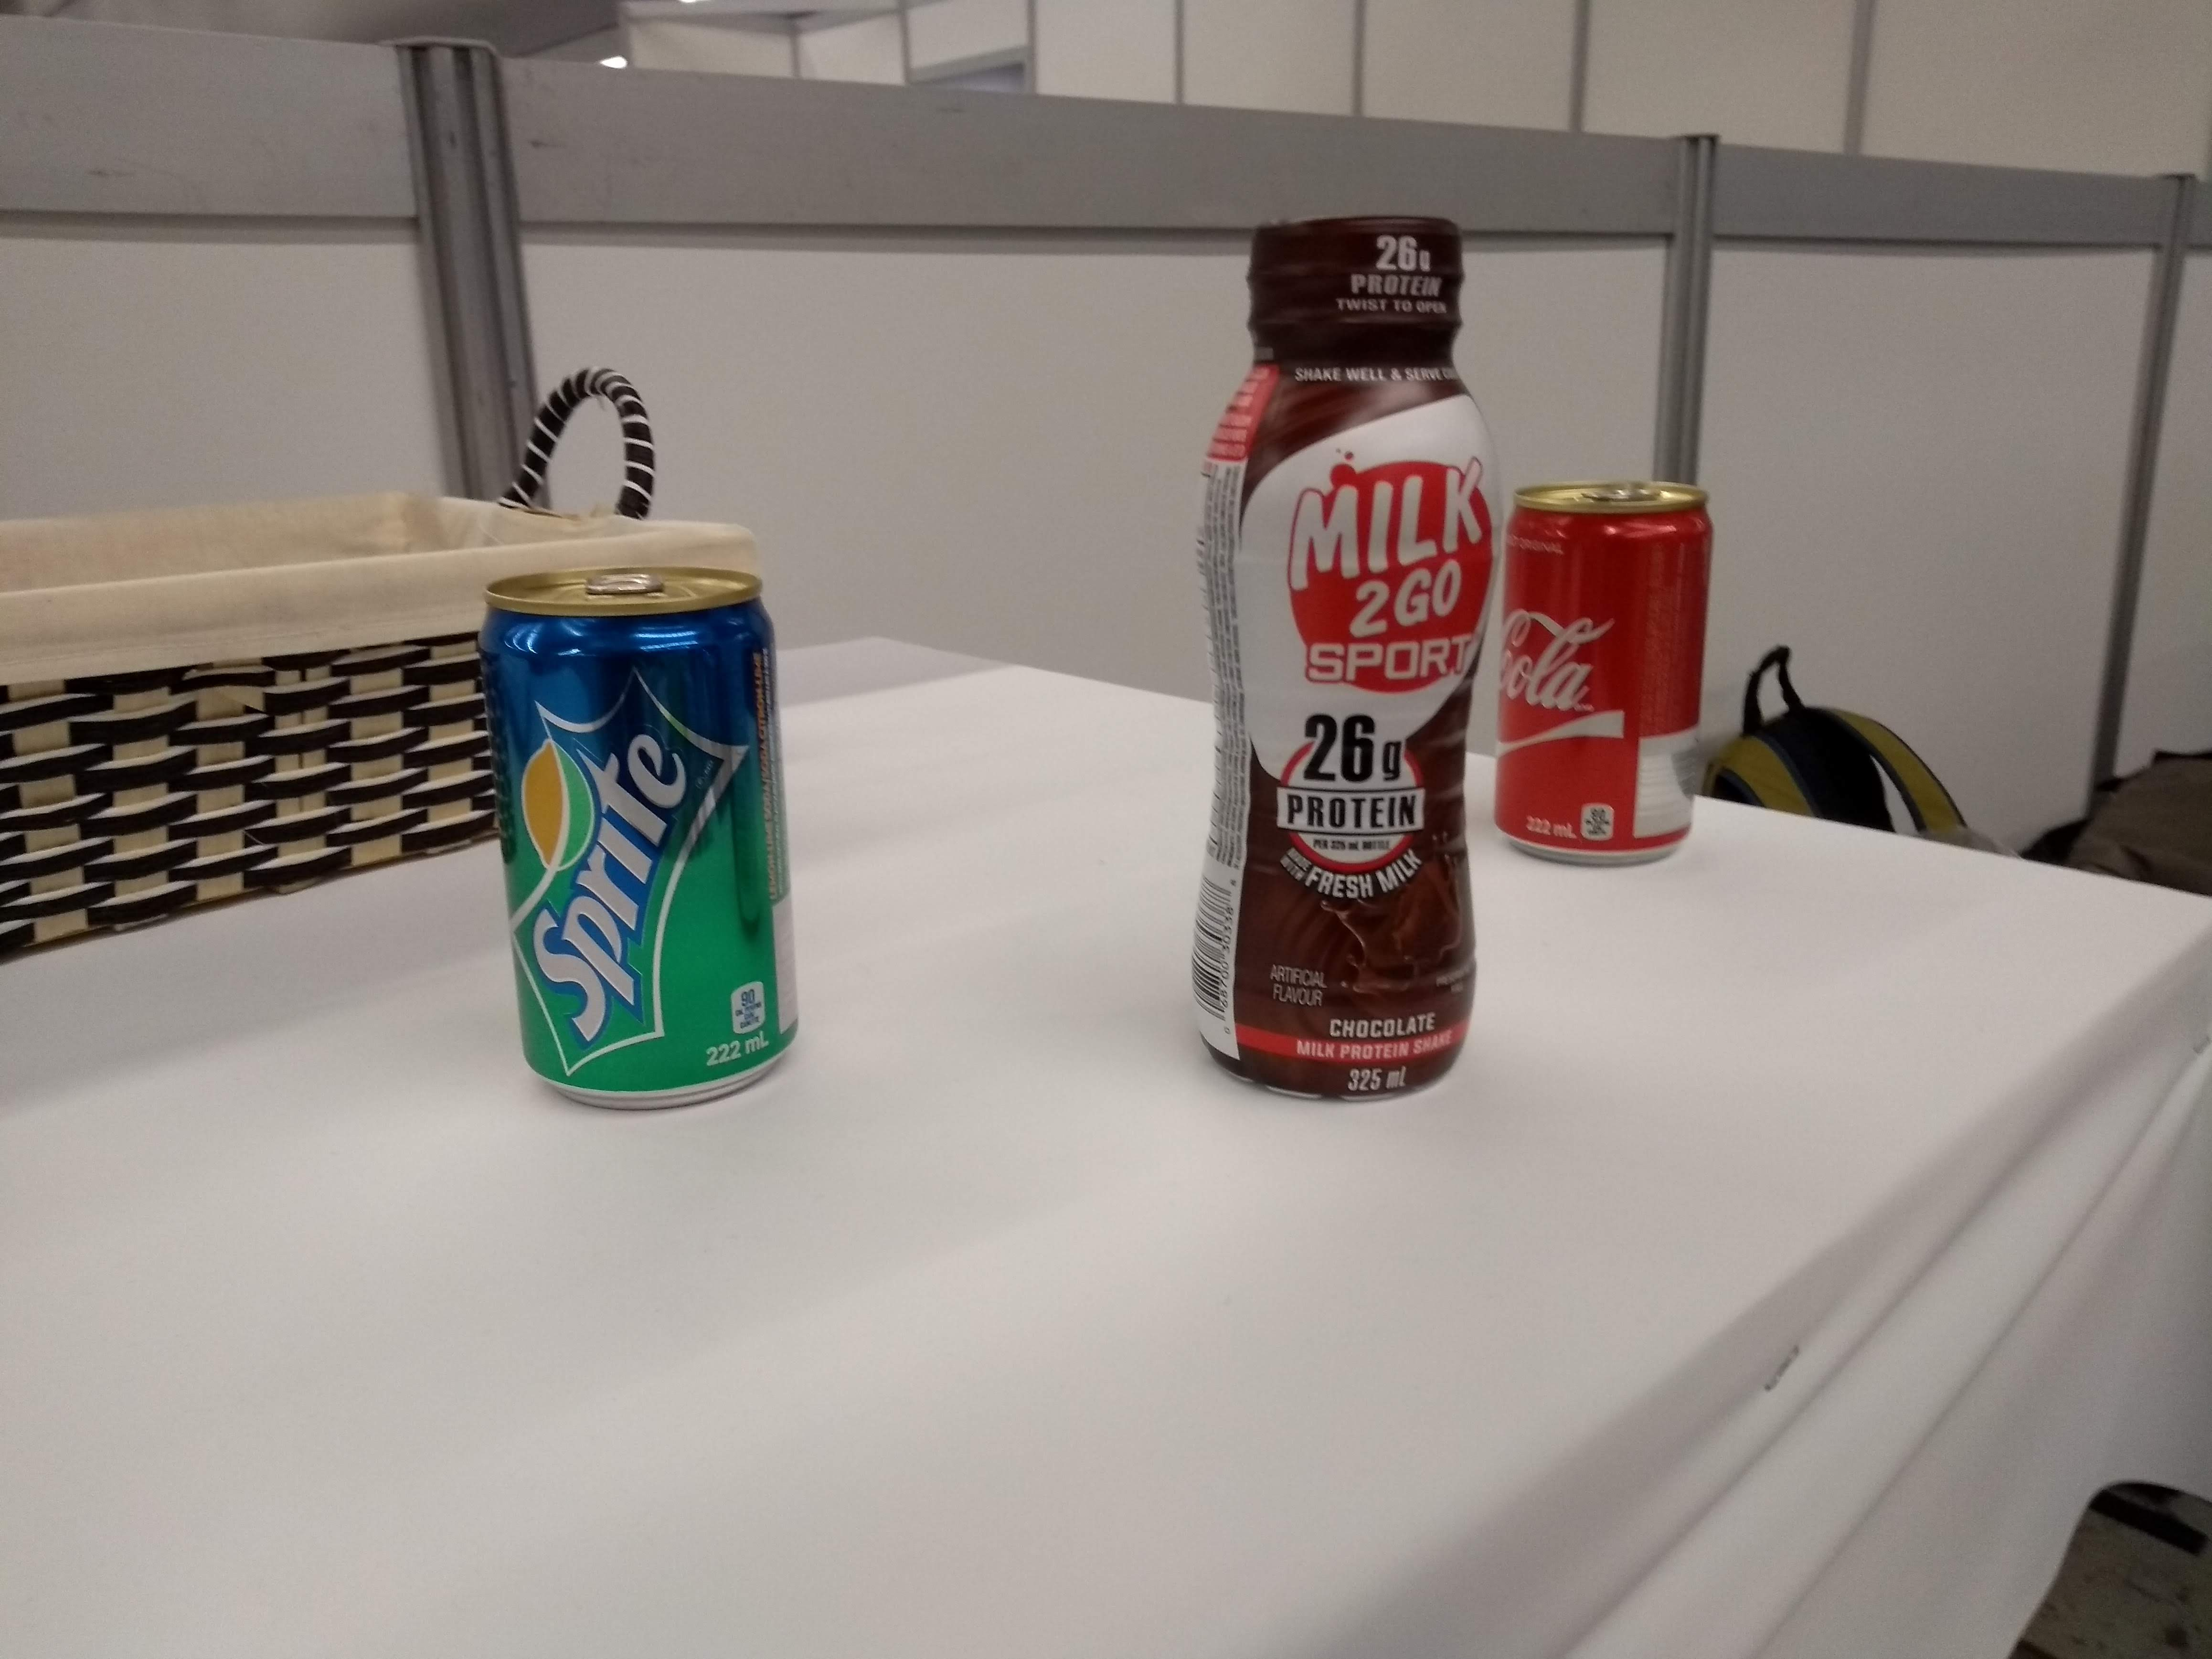chocolate_drink: (1174, 202, 1514, 1115)
coke: (1480, 471, 1724, 870)
sprite: (477, 556, 815, 1121)
